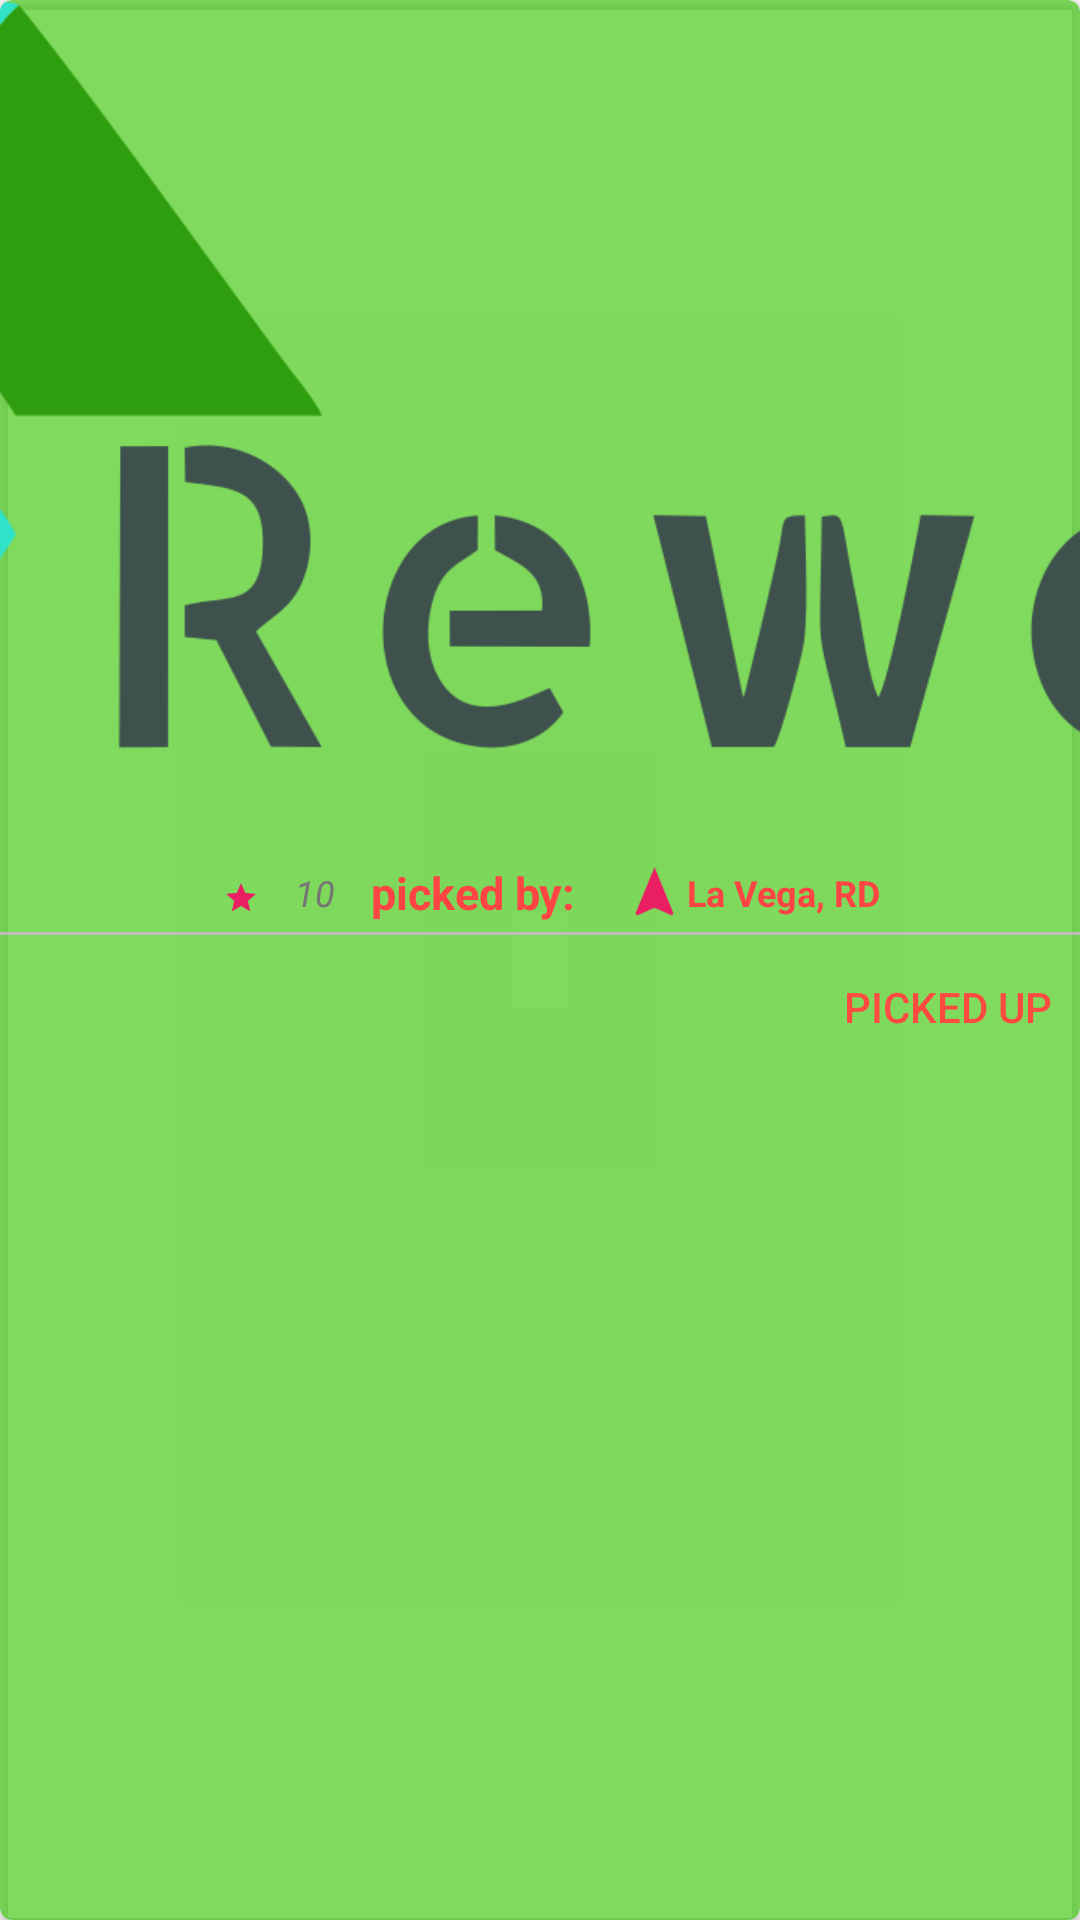

Icons on this 1080 × 1920 Android screen, each with its box as (x1, y1, x2, y2):
star: (226, 883, 256, 911)
